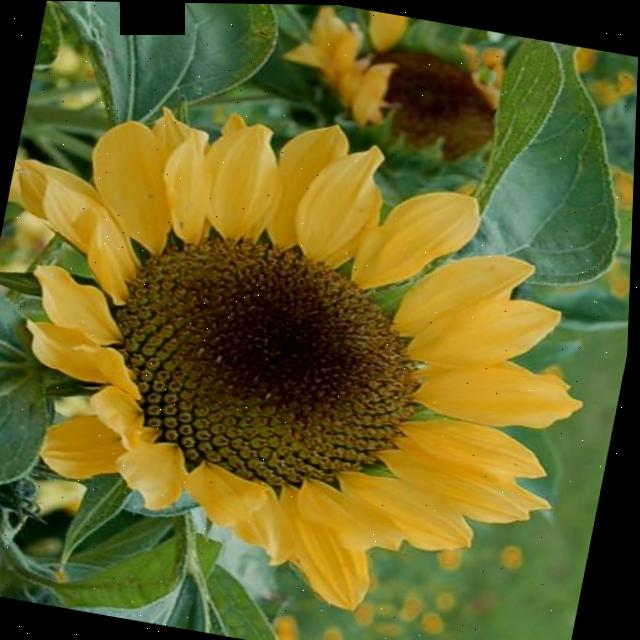sunflower: (0, 0, 640, 615)
